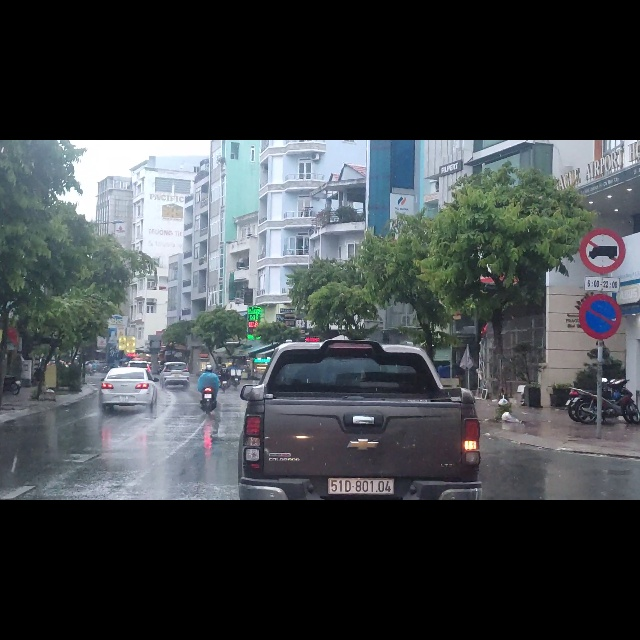bien_cam: (579, 157, 626, 238), (578, 273, 621, 354)
